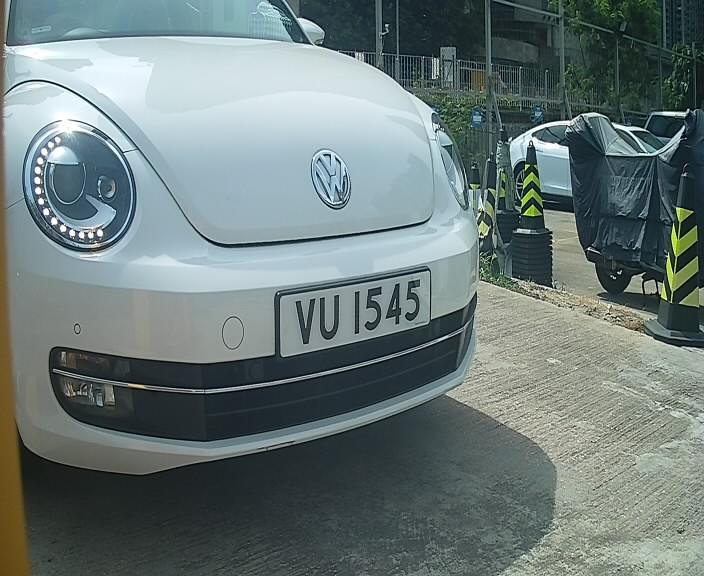License Plate: (255, 268, 434, 363)
